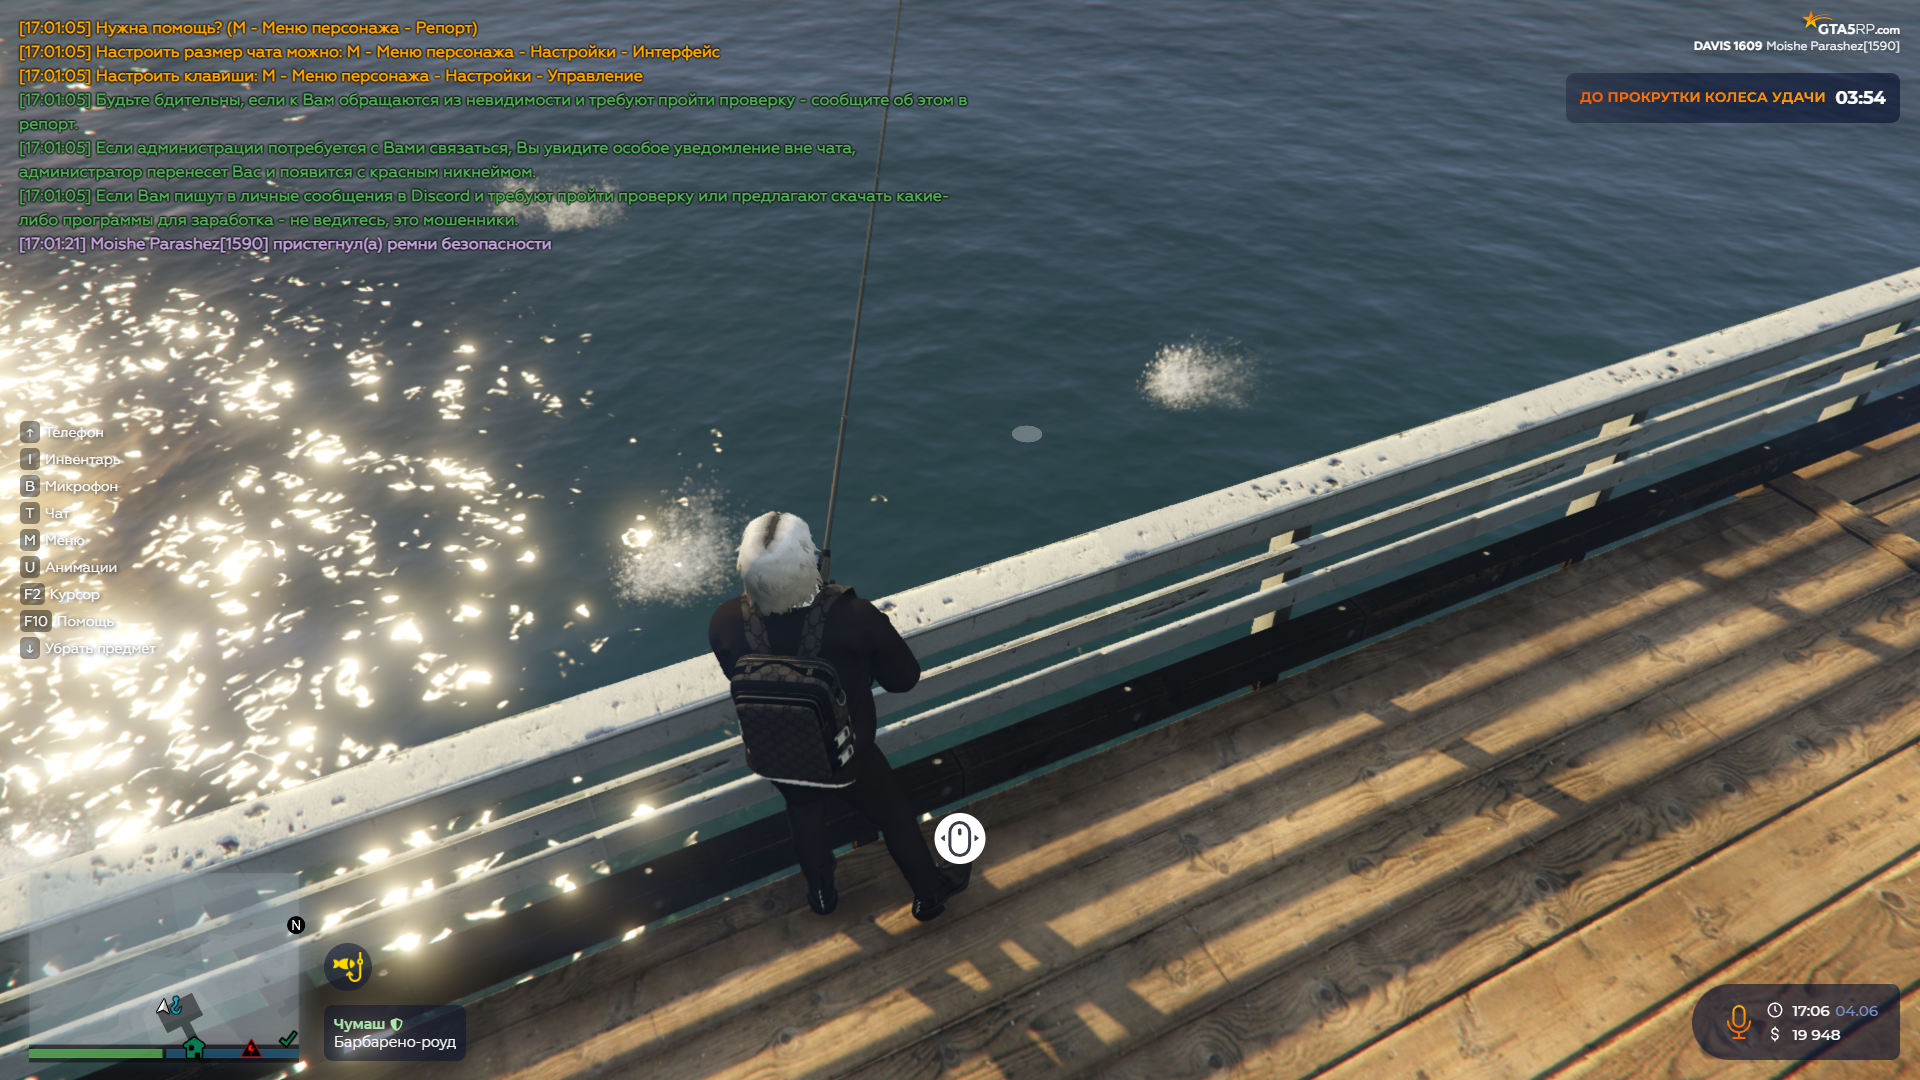circle: (1011, 425, 1044, 444)
